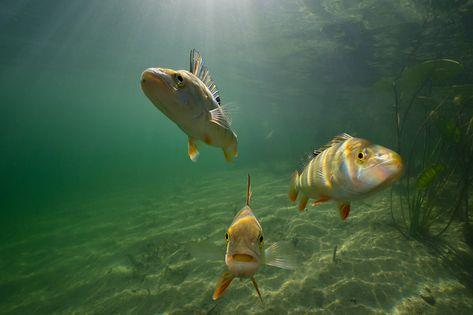fish: (139, 47, 239, 162), (211, 173, 296, 303), (287, 131, 404, 221)
